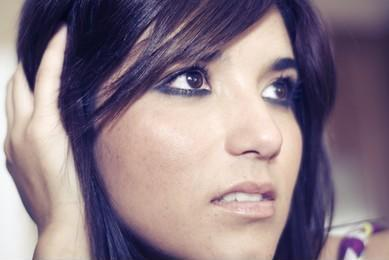face: (92, 24, 310, 260)
